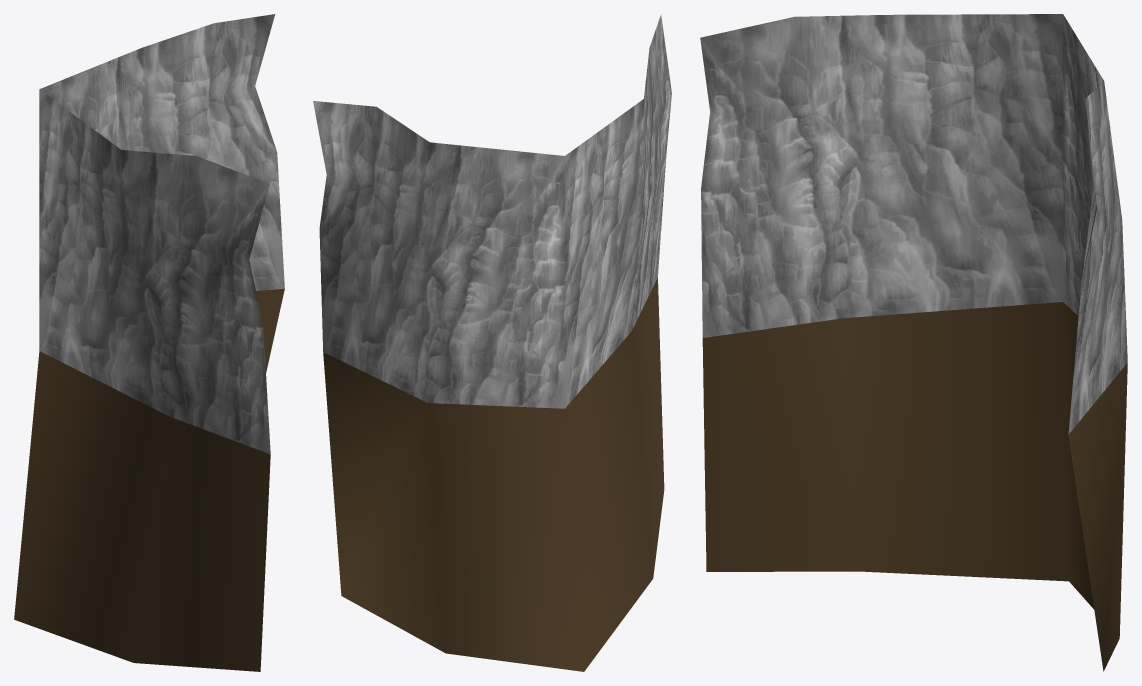
File: SWORDLIGHT20_PS-AREA03_64.fbx
The picture shows the model from 3 angles, left to right: view 1: azimuth 30°, elevation 25°; view 2: azimuth 150°, elevation 25°; view 3: azimuth 270°, elevation 25°; orthographic projection. The views are drawn at different scales.
Visible parts, largest first — view 1: SWORDLIGHT20_PS-AREA03_64; view 2: SWORDLIGHT20_PS-AREA03_64; view 3: SWORDLIGHT20_PS-AREA03_64.
Part boxes in pixels (x1,y1,x2,y2): SWORDLIGHT20_PS-AREA03_64: (14, 14, 284, 671); SWORDLIGHT20_PS-AREA03_64: (313, 14, 671, 671); SWORDLIGHT20_PS-AREA03_64: (700, 14, 1127, 671).
Size of the model in its own units: 54790 by 104541 by 68068.
Materials: 2 (2 with a texture image).
